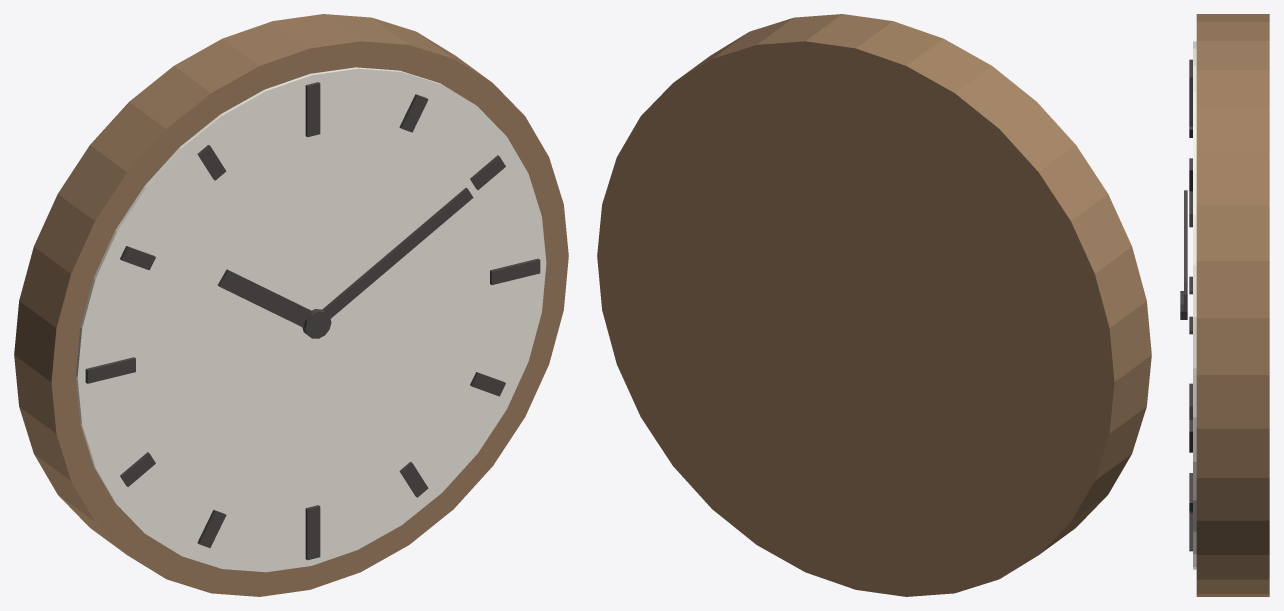
File: reloj_pared.glb
3 views of the same model, side by side, from view 1: azimuth 30°, elevation 25°; view 2: azimuth 150°, elevation 25°; view 3: azimuth 270°, elevation 25° (orthographic). The views are drawn at different scales.
Visible parts, largest first — view 1: reloj_pared; view 2: reloj_pared; view 3: reloj_pared.
Boxes of the visible parts, <box> form: reloj_pared: <box>14,14,568,596</box>; reloj_pared: <box>597,14,1151,596</box>; reloj_pared: <box>1180,14,1269,596</box>.
Size of the model in its own units: 0.32 by 0.32 by 0.049.
